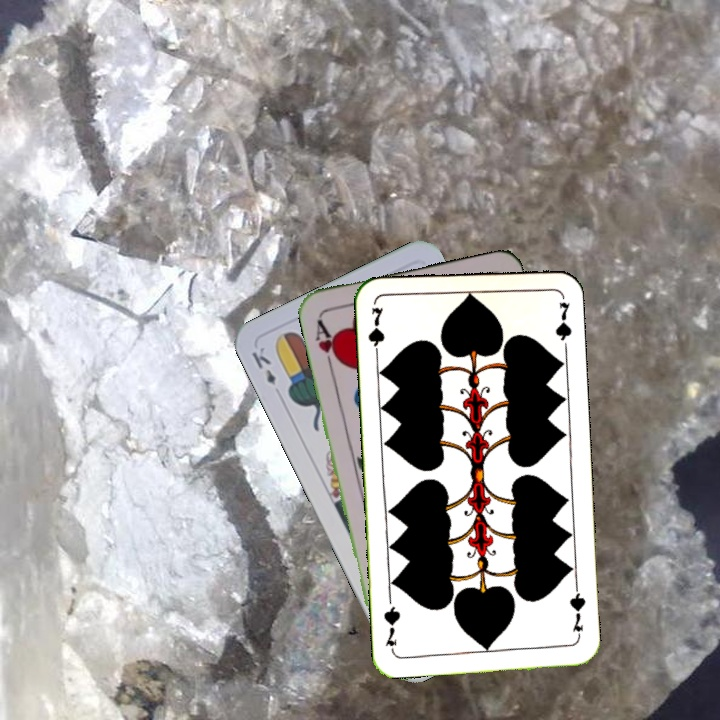EK: (247, 343, 278, 387)
G7: (364, 303, 387, 362), (566, 583, 588, 642)
HA: (311, 315, 344, 373)
